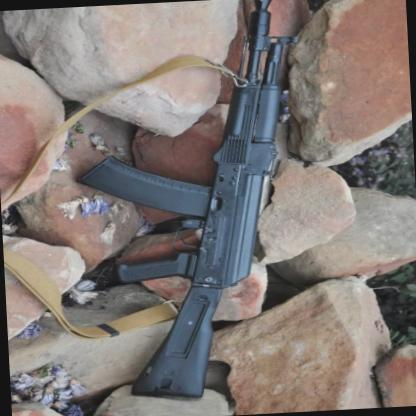rifle: (65, 0, 330, 409)
